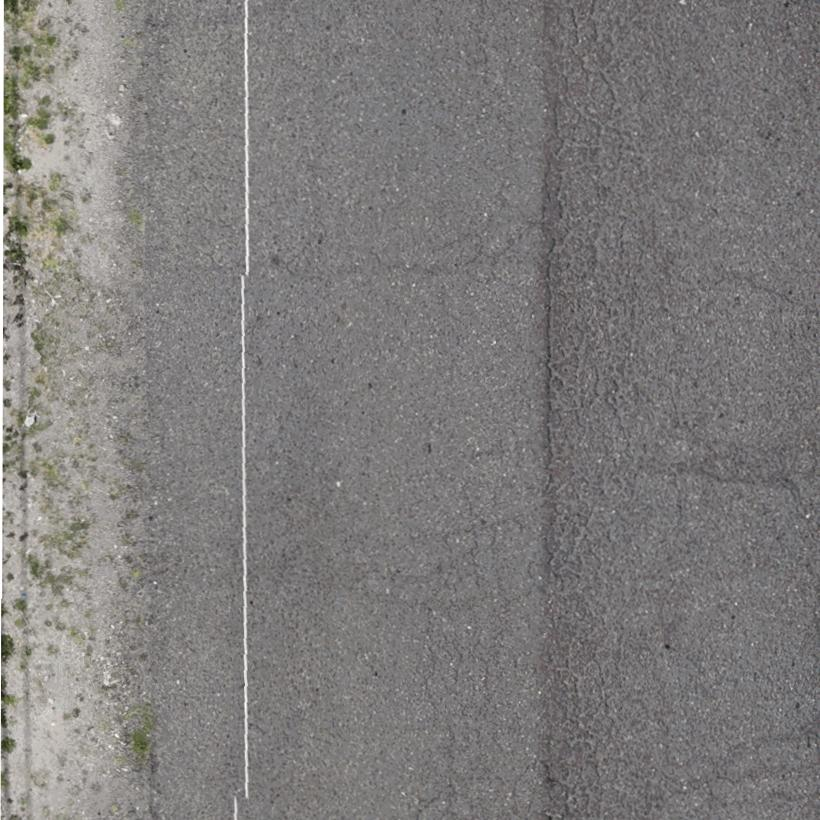GRIETA: (674, 458, 800, 499)
PIEL DE COCODRILO: (538, 0, 746, 819), (406, 507, 538, 819), (391, 194, 538, 303)
